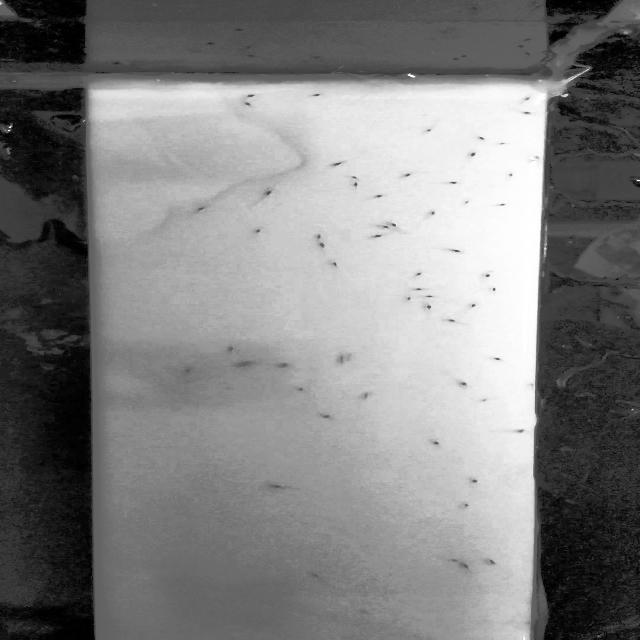shrimp: (251, 188, 286, 200), (306, 572, 335, 586), (420, 206, 442, 222), (455, 300, 481, 313), (329, 158, 352, 170), (516, 93, 536, 106), (450, 199, 473, 210), (461, 150, 484, 161), (392, 171, 420, 180), (364, 192, 389, 202), (261, 484, 292, 492), (192, 203, 210, 216), (450, 557, 469, 569), (501, 424, 525, 433), (330, 261, 348, 273), (376, 222, 400, 231), (342, 353, 361, 364), (232, 360, 258, 368), (311, 411, 334, 420), (442, 245, 465, 254), (493, 198, 513, 208), (441, 179, 466, 187), (341, 172, 363, 181), (408, 286, 432, 294), (442, 316, 465, 324), (484, 559, 504, 568), (360, 392, 380, 401), (423, 306, 438, 318), (490, 354, 512, 362), (220, 346, 240, 354), (294, 382, 310, 392), (419, 292, 439, 300), (478, 272, 498, 280), (417, 267, 433, 277), (503, 170, 519, 180), (525, 152, 545, 160), (333, 353, 346, 365), (482, 285, 501, 293), (367, 232, 386, 240), (427, 436, 442, 446), (348, 180, 363, 190), (456, 381, 472, 390), (183, 362, 196, 373), (240, 101, 260, 108), (255, 228, 272, 236), (514, 108, 533, 115), (306, 94, 328, 100), (402, 298, 414, 308), (425, 126, 440, 134), (471, 400, 490, 406), (457, 501, 471, 509), (270, 361, 286, 368), (314, 240, 330, 247), (476, 135, 492, 142), (392, 220, 402, 230), (471, 477, 481, 485), (248, 93, 264, 98), (496, 141, 516, 145), (314, 233, 325, 238)
